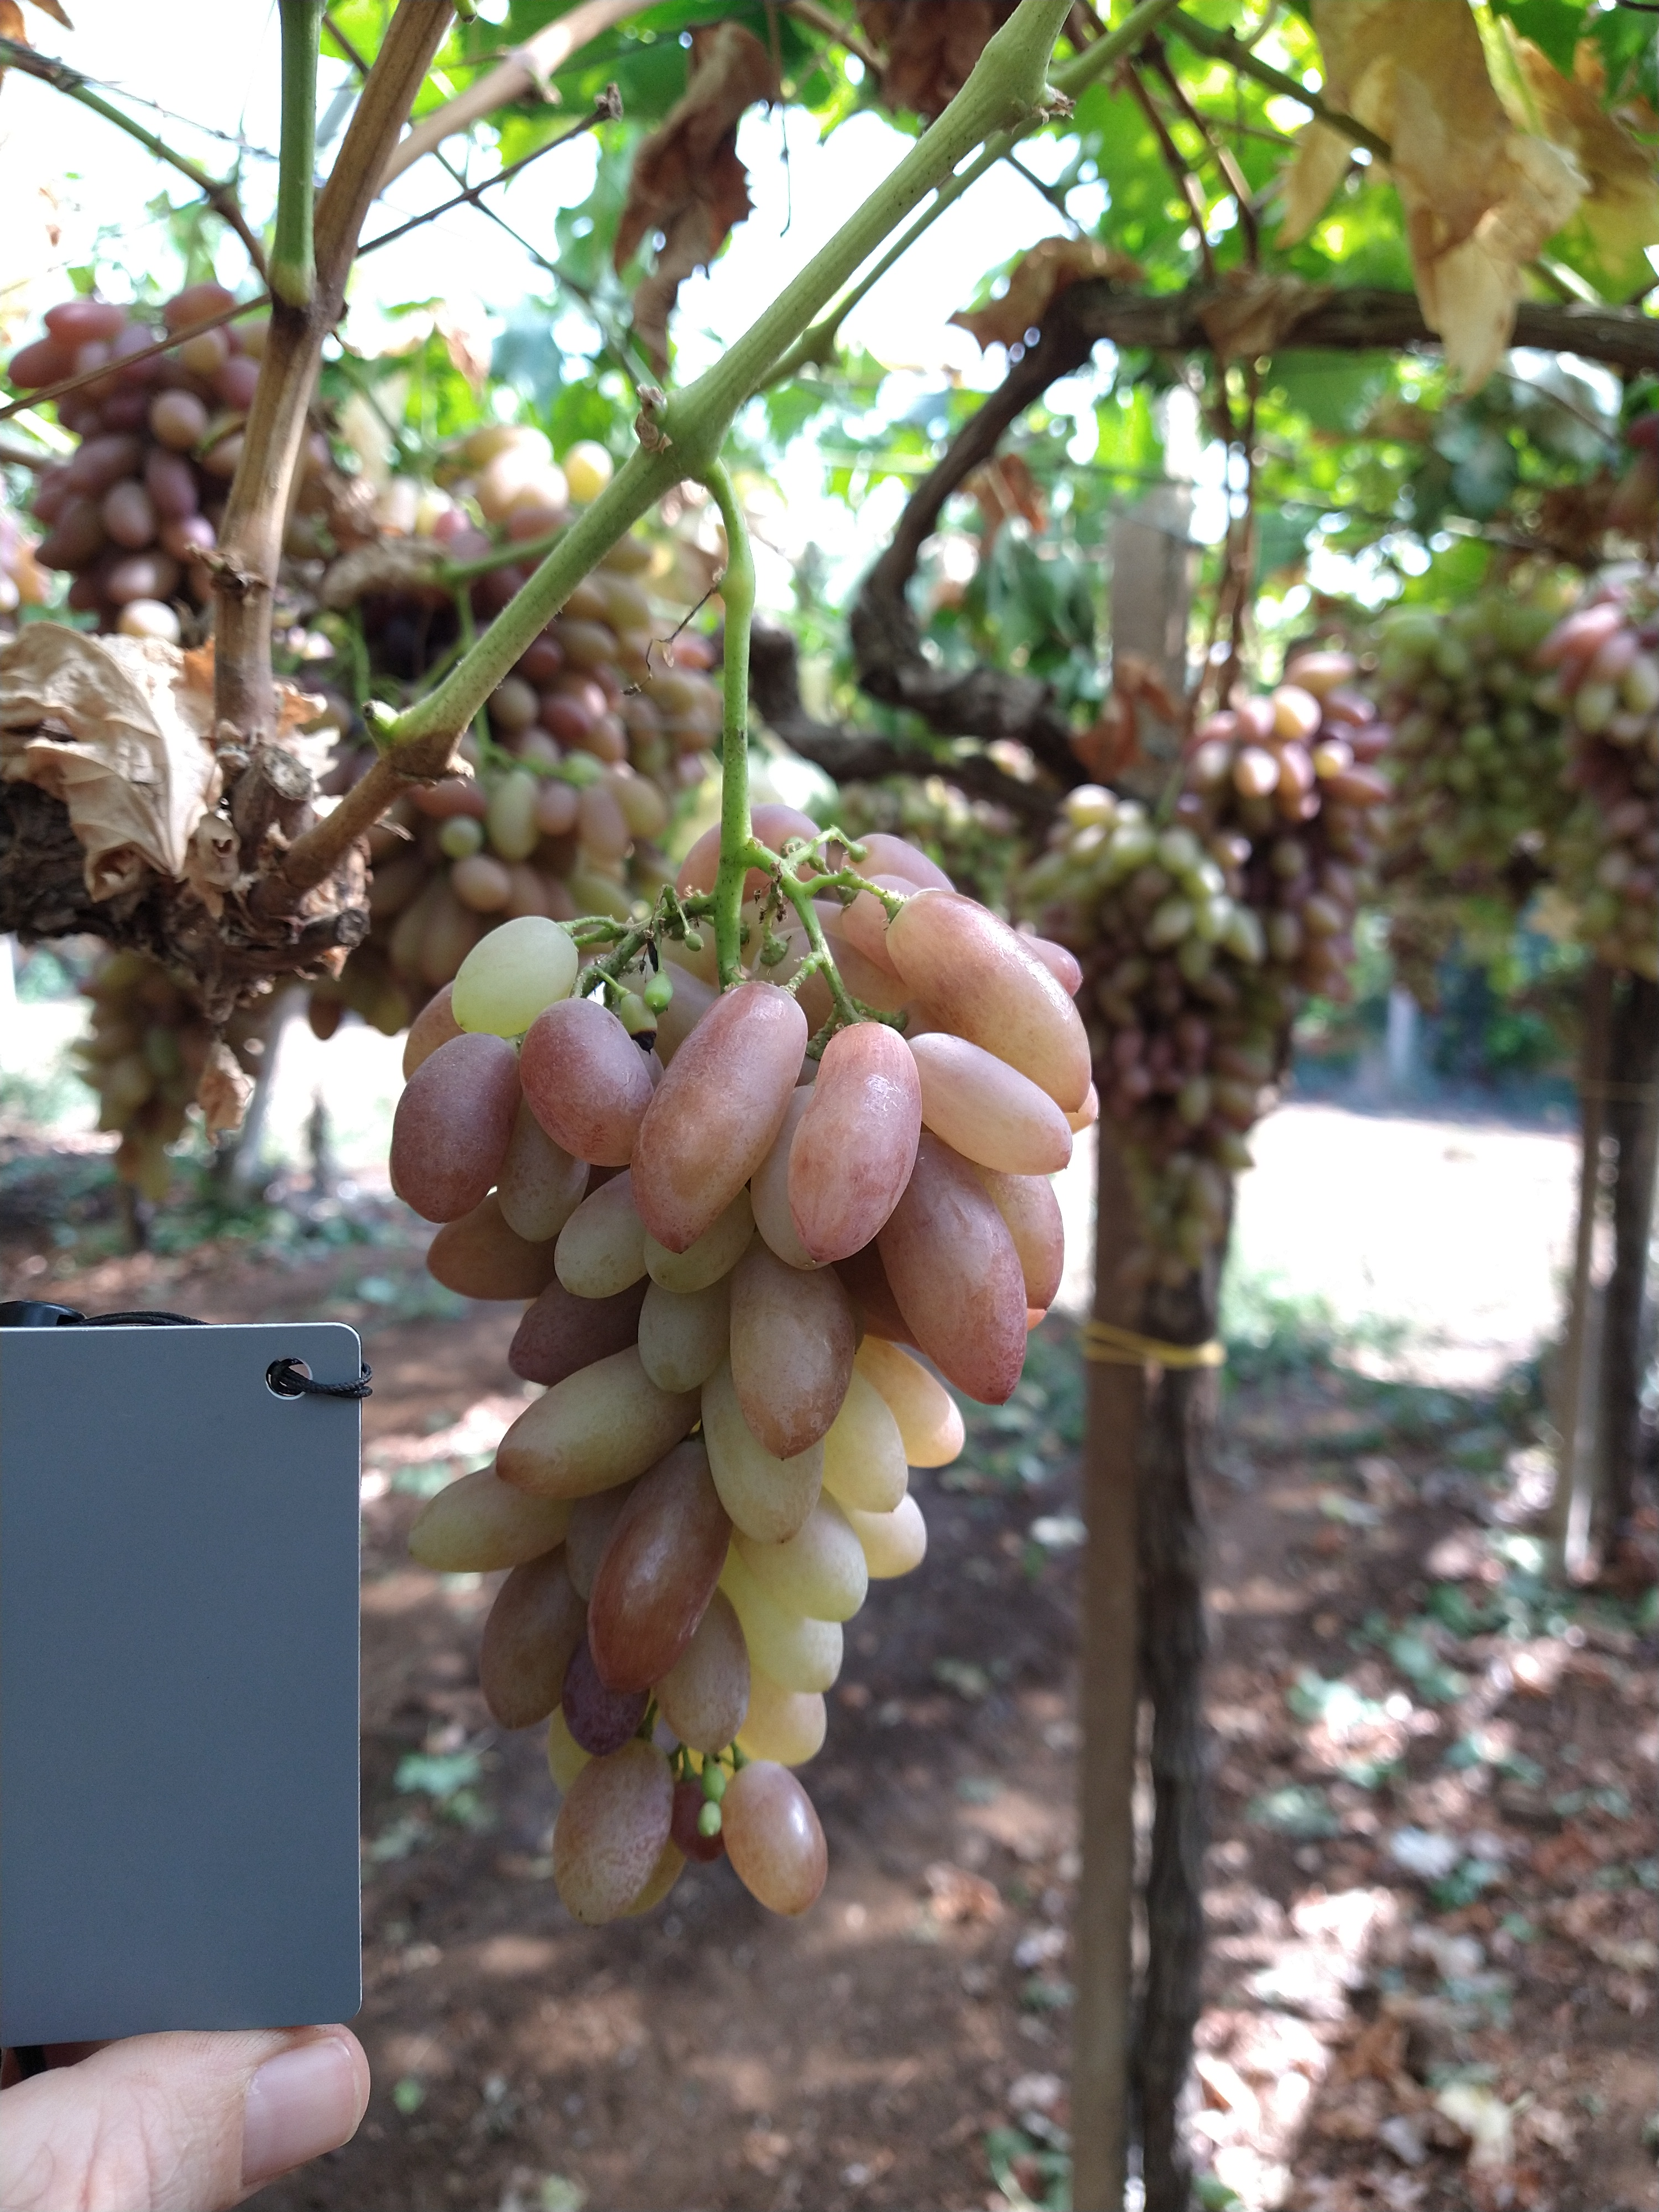acino: (627, 979, 810, 1254), (885, 888, 1093, 1109), (875, 1136, 1028, 1406), (586, 1437, 734, 1695), (788, 1019, 922, 1263), (498, 1346, 702, 1501), (389, 1035, 519, 1226), (908, 1031, 1075, 1177), (728, 1266, 856, 1458), (518, 996, 653, 1169), (554, 1740, 678, 1928), (701, 1369, 828, 1547), (481, 1547, 586, 1730), (408, 1465, 575, 1575), (720, 1761, 828, 1916), (450, 913, 582, 1036), (660, 1585, 753, 1759), (849, 1338, 965, 1470), (732, 1521, 868, 1623), (554, 1167, 647, 1299), (509, 1292, 636, 1388), (826, 1369, 910, 1514), (498, 1134, 591, 1244), (636, 1285, 727, 1395), (742, 1599, 843, 1691), (563, 1665, 655, 1756), (735, 1693, 830, 1766), (866, 1496, 929, 1581)
